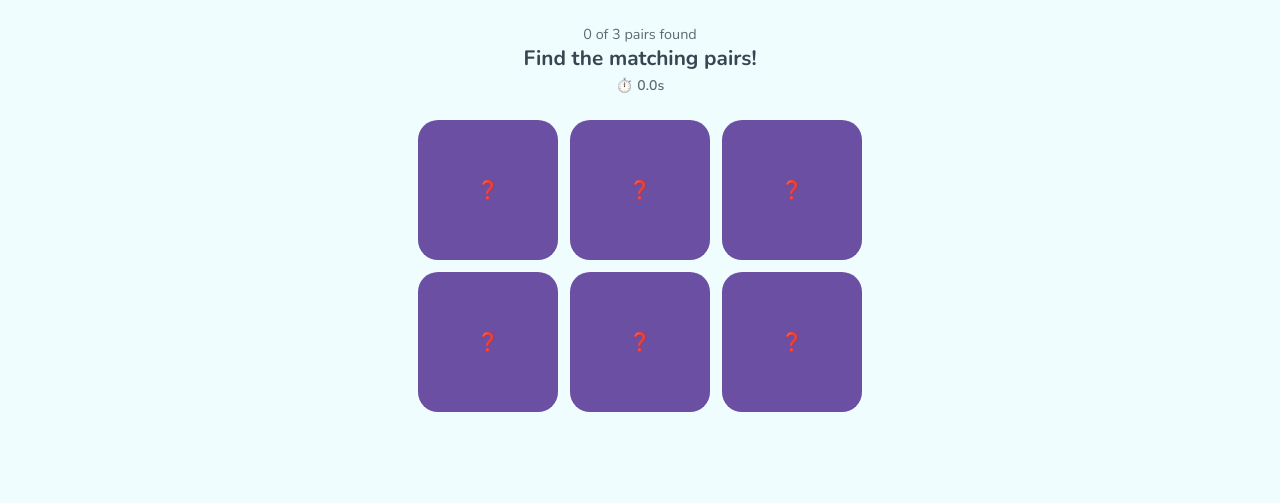
Test: AnimalMemoryMatchGame › shows the fewest-flips record banner on the results screen
What coordinates should you click on to do the following:
click the 1st button "❓"
I would click on:
 (488, 190)
Its box is [418, 120, 558, 260].
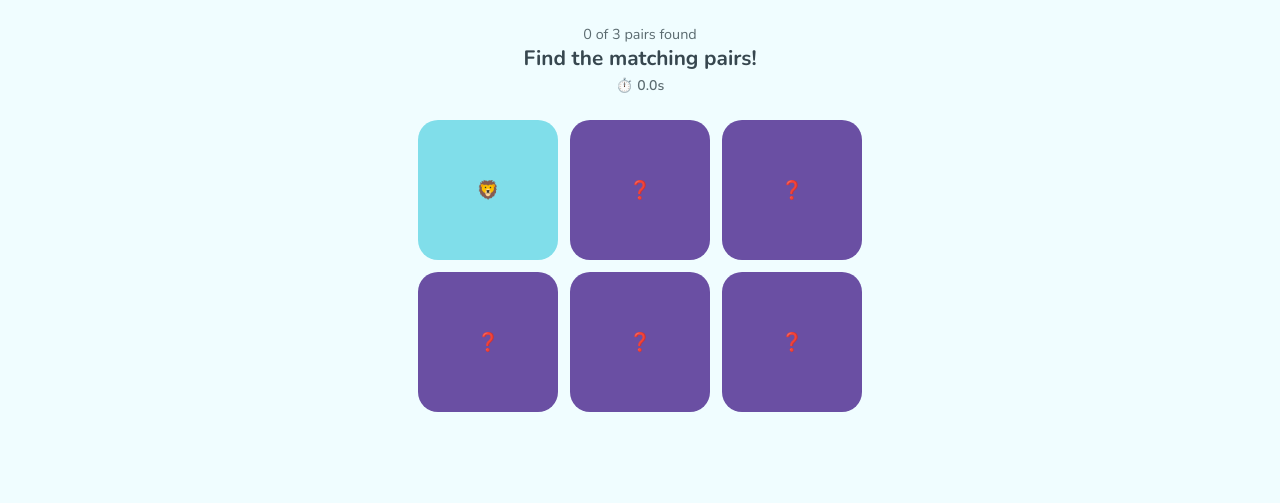
What coordinates should you click on to do the following:
click the 1st button "❓"
I would click on:
 (640, 190)
Its box is [570, 120, 710, 260].
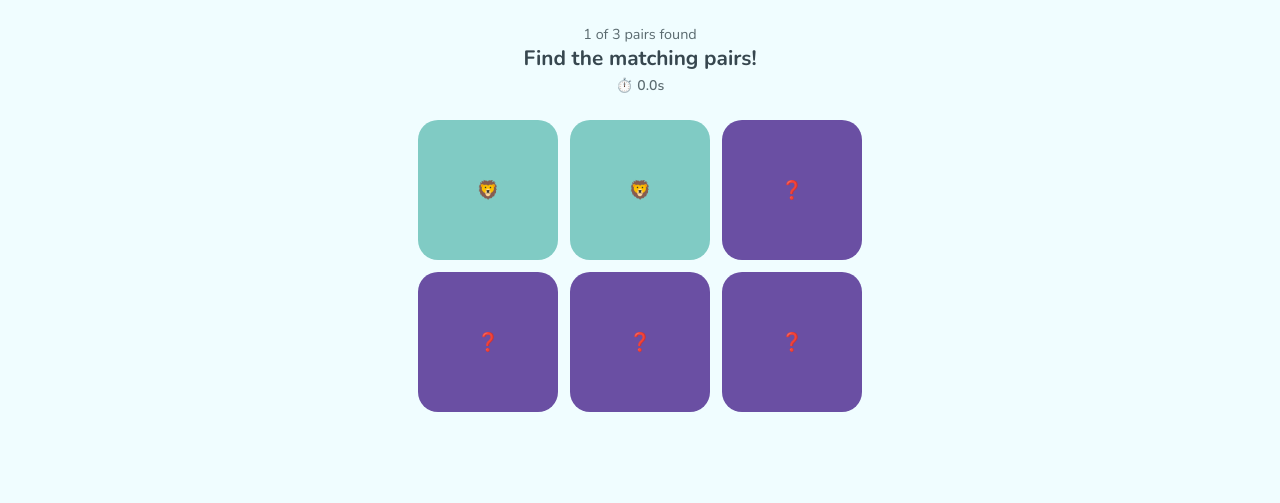
What coordinates should you click on to do the following:
click the 1st button "❓"
I would click on:
 (792, 190)
Its box is [722, 120, 862, 260].
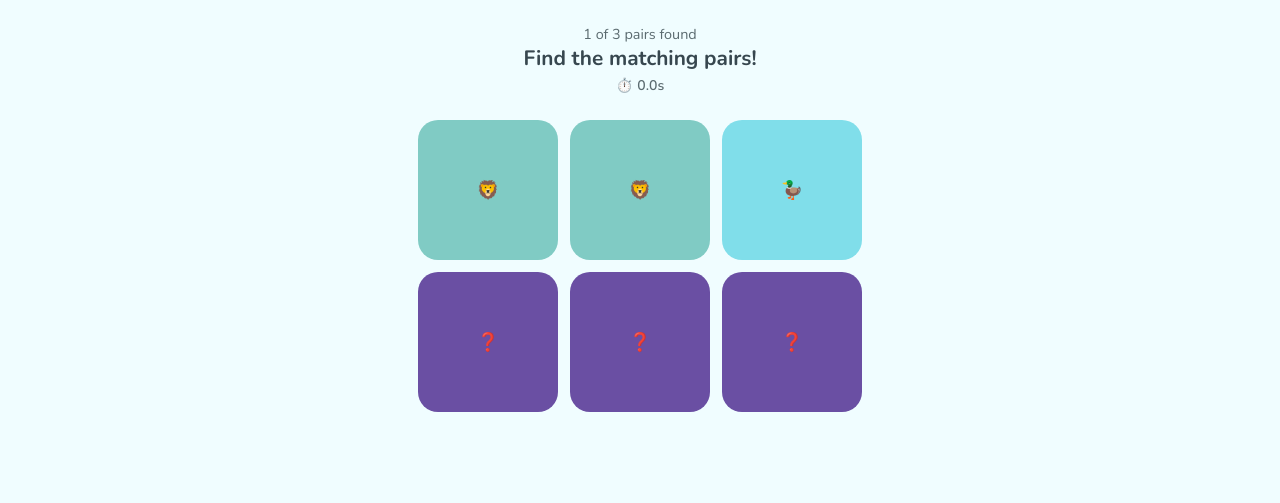
What coordinates should you click on to do the following:
click the 2nd button "❓"
I would click on:
 (640, 342)
Its box is [570, 272, 710, 412].
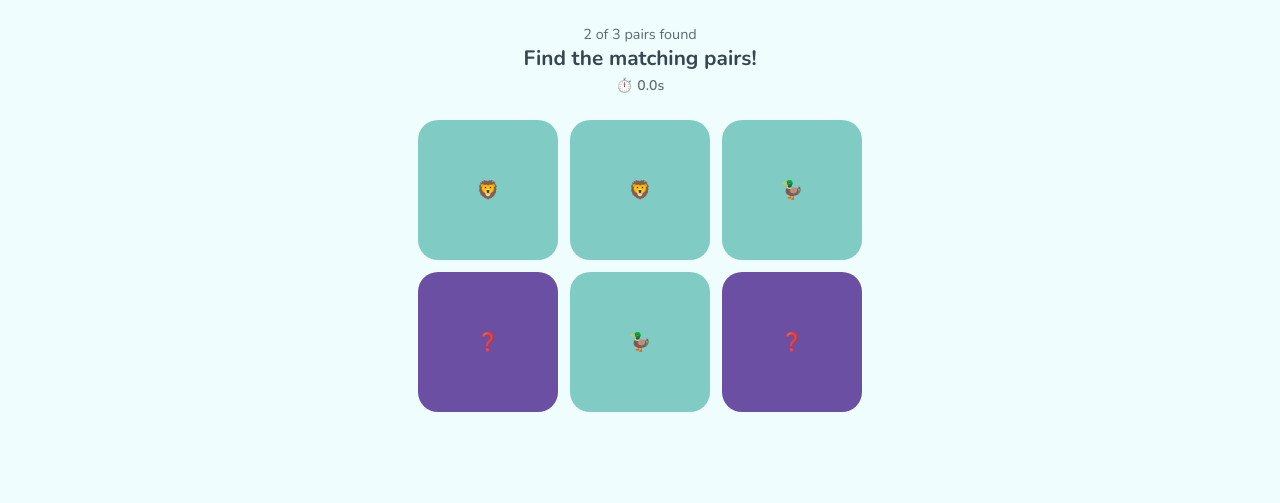
What coordinates should you click on to do the following:
click the 1st button "❓"
I would click on:
 (488, 342)
Its box is [418, 272, 558, 412].
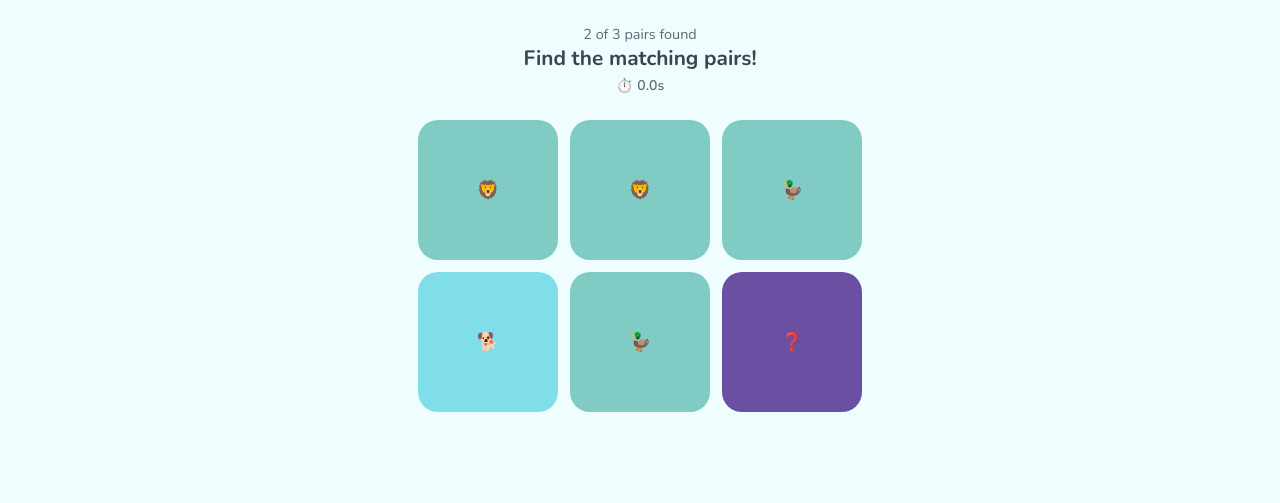
What coordinates should you click on to do the following:
click the button "❓"
I would click on:
 (792, 342)
Its box is [722, 272, 862, 412].
Wait 2100 ms
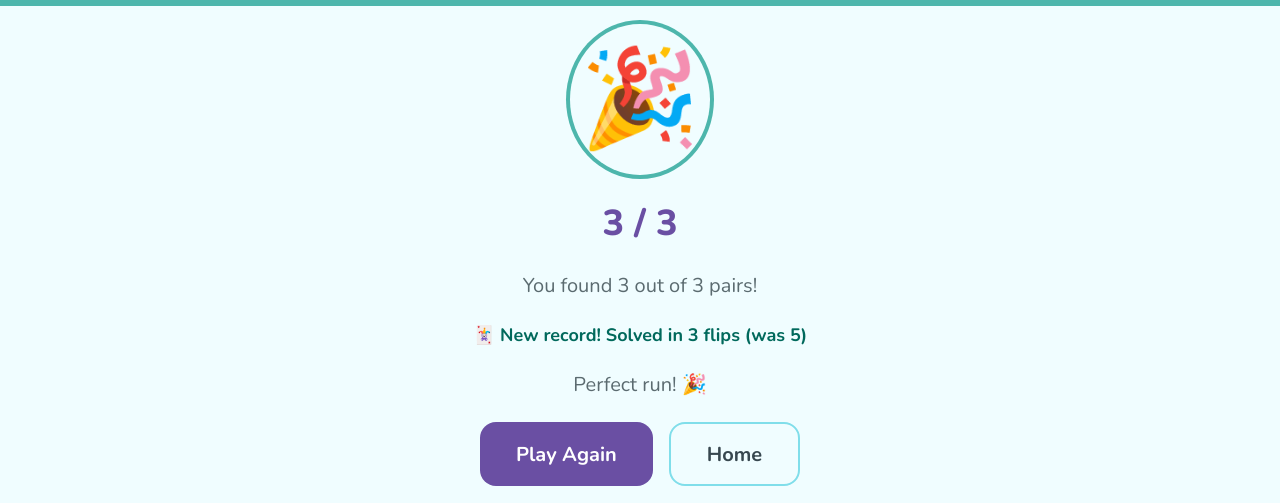
Expected: the text "🃏 New record! Solved in 3 flips (was 5)" is shown, [473, 323, 807, 347]
